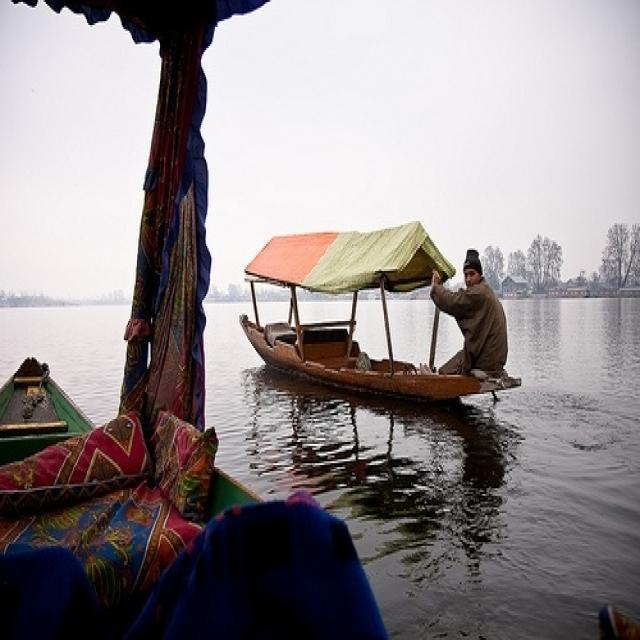boat: (238, 305, 526, 426)
